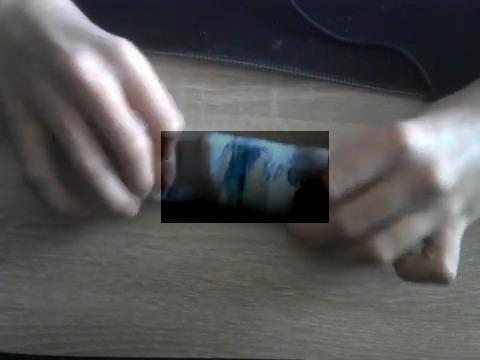20leva: (161, 131, 329, 223)
